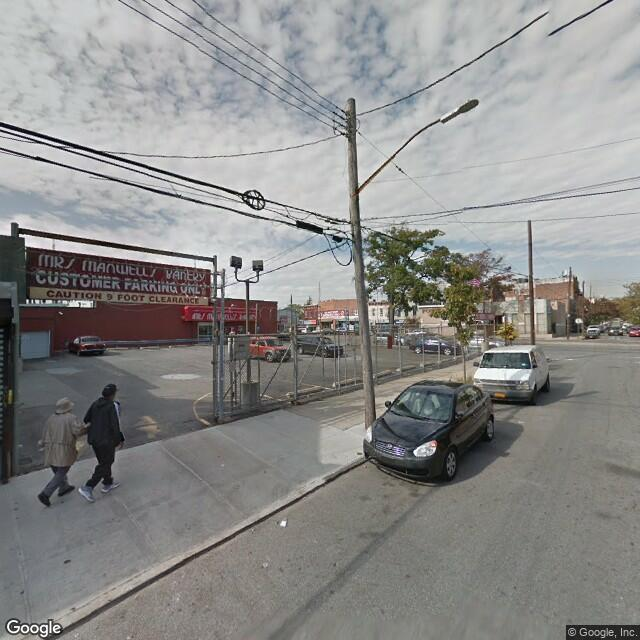litter: (281, 519, 289, 530), (219, 464, 226, 468)
